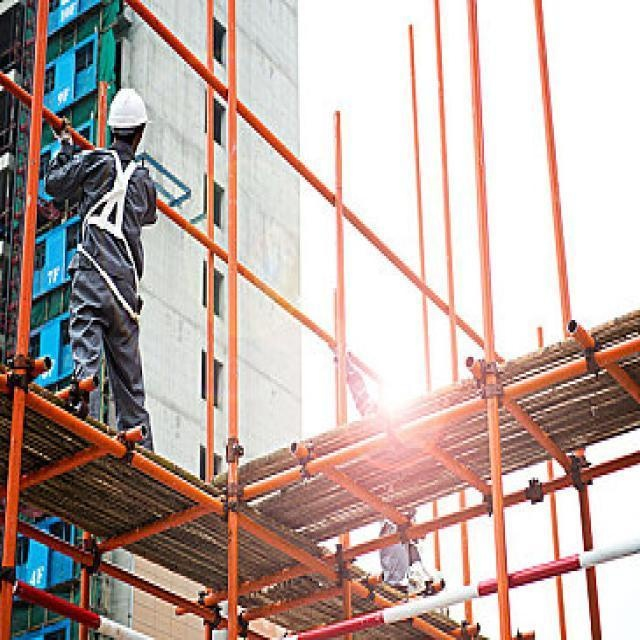Arnes_seguridad: (75, 133, 144, 258)
